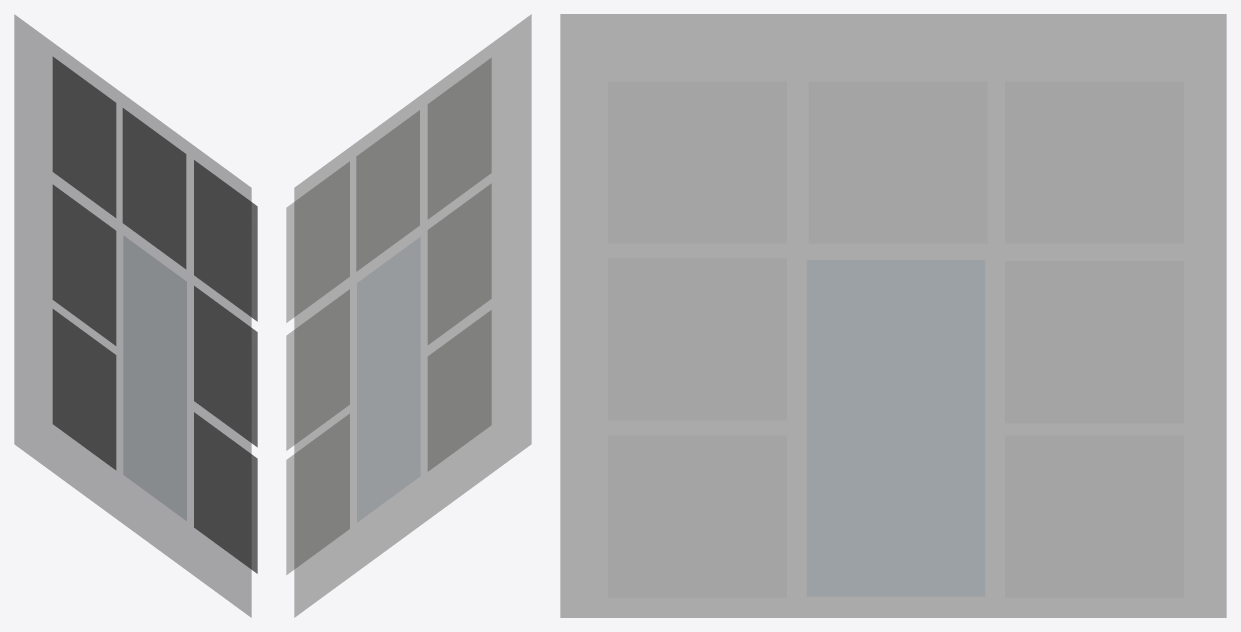
File: btn_rent2x1South.gltf
The picture shows the model from 3 angles, left to right: view 1: azimuth 30°, elevation 25°; view 2: azimuth 150°, elevation 25°; view 3: azimuth 270°, elevation 25°; orthographic projection. The views are drawn at different scales.
Visible parts, largest first — view 1: 2x1_bg.002, 32LandTile.004, 13LandTile.005, 13LandTile.006, 33LandTile.005, 33LandTile.006, 11LandTile.004, 31LandTile.004, 21LandTile.003; view 2: 2x1_bg.002, 32LandTile.004, 21LandTile.003, 31LandTile.004, 11LandTile.004, 33LandTile.006, 33LandTile.005, 13LandTile.005, 13LandTile.006; view 3: 2x1_bg.002, 32LandTile.004, 13LandTile.006, 11LandTile.004, 13LandTile.005, 21LandTile.003, 31LandTile.004, 33LandTile.005, 33LandTile.006.
Part boxes in pixels (x1,y1,x2,y2): 2x1_bg.002: (14, 14, 251, 617); 32LandTile.004: (124, 237, 186, 520); 13LandTile.005: (52, 57, 116, 217); 13LandTile.006: (122, 108, 186, 268); 33LandTile.005: (52, 309, 116, 469); 33LandTile.006: (52, 185, 116, 345); 11LandTile.004: (194, 160, 257, 321); 31LandTile.004: (194, 412, 257, 573); 21LandTile.003: (194, 286, 257, 447); 2x1_bg.002: (294, 14, 531, 617); 32LandTile.004: (357, 238, 419, 521); 21LandTile.003: (427, 183, 491, 344); 31LandTile.004: (427, 310, 491, 471); 11LandTile.004: (427, 58, 491, 218); 33LandTile.006: (286, 289, 349, 450); 33LandTile.005: (286, 414, 349, 575); 13LandTile.005: (286, 161, 349, 322); 13LandTile.006: (356, 110, 419, 271); 2x1_bg.002: (560, 14, 1226, 617); 32LandTile.004: (807, 260, 984, 596); 13LandTile.006: (808, 81, 987, 243); 11LandTile.004: (608, 81, 786, 243); 13LandTile.005: (1005, 81, 1183, 243); 21LandTile.003: (608, 258, 786, 420); 31LandTile.004: (608, 435, 786, 597); 33LandTile.005: (1005, 435, 1183, 597); 33LandTile.006: (1005, 261, 1183, 423).
Size of what is drawn, in the model's own units: 0.00791 by 0.1401 by 0.1401.
Materials: 3 (2 with a texture image).
